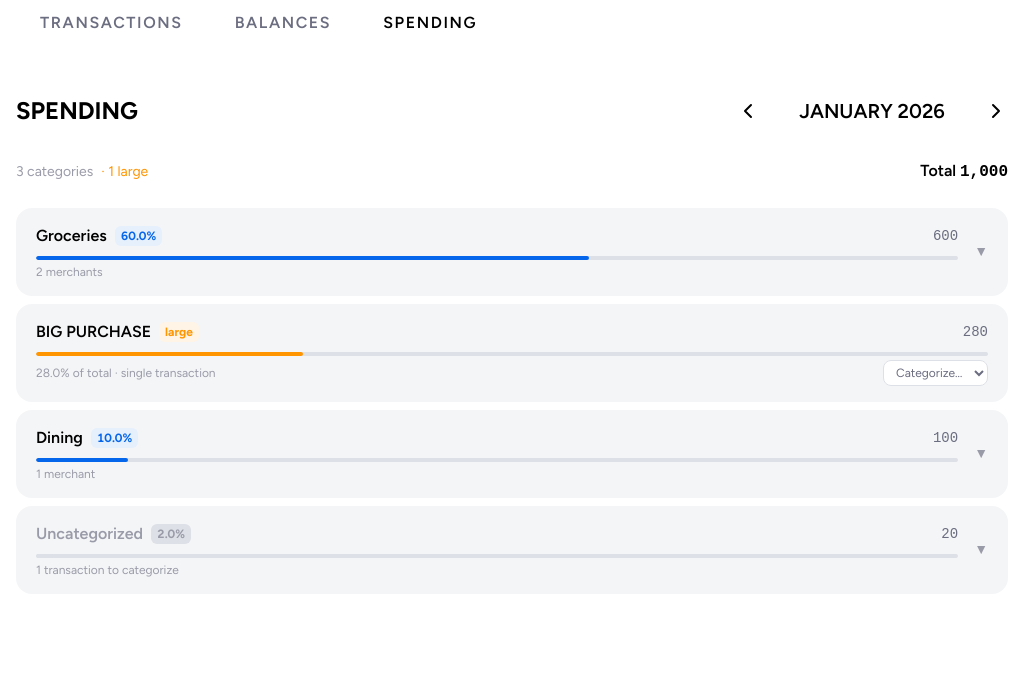
it: Spending page › shows a merchant-less uncategorized row clearly
This screenshot has width=1025, height=674.
Click the button "Uncategorized" at point(90, 534), box [16,506,1008,594]
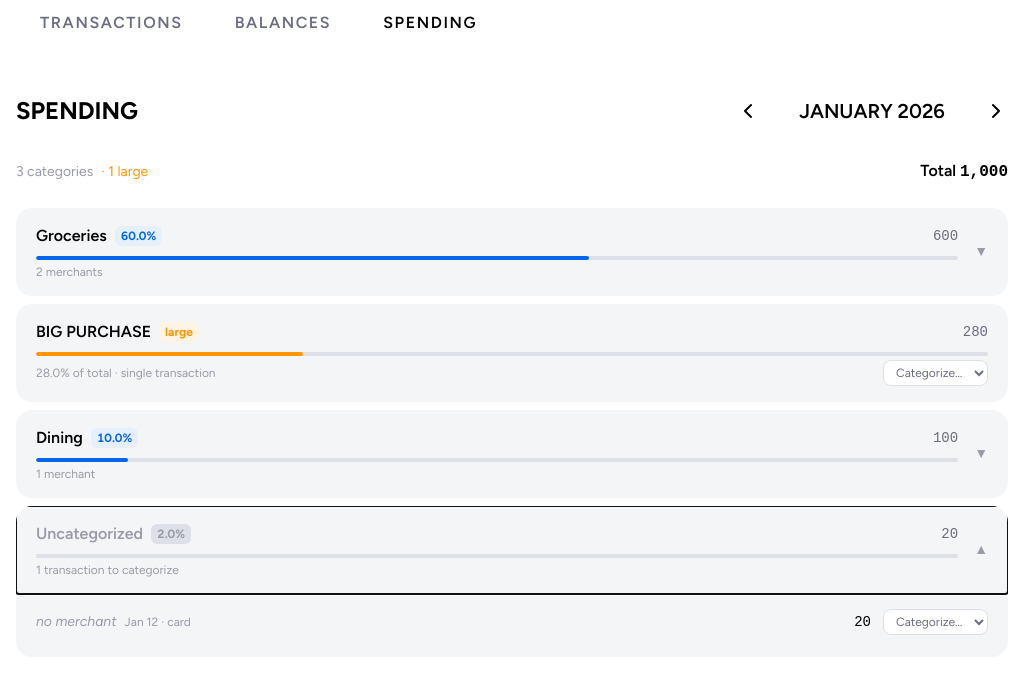
expect the text "no merchant" is shown: met, box [36,613,117,630]
